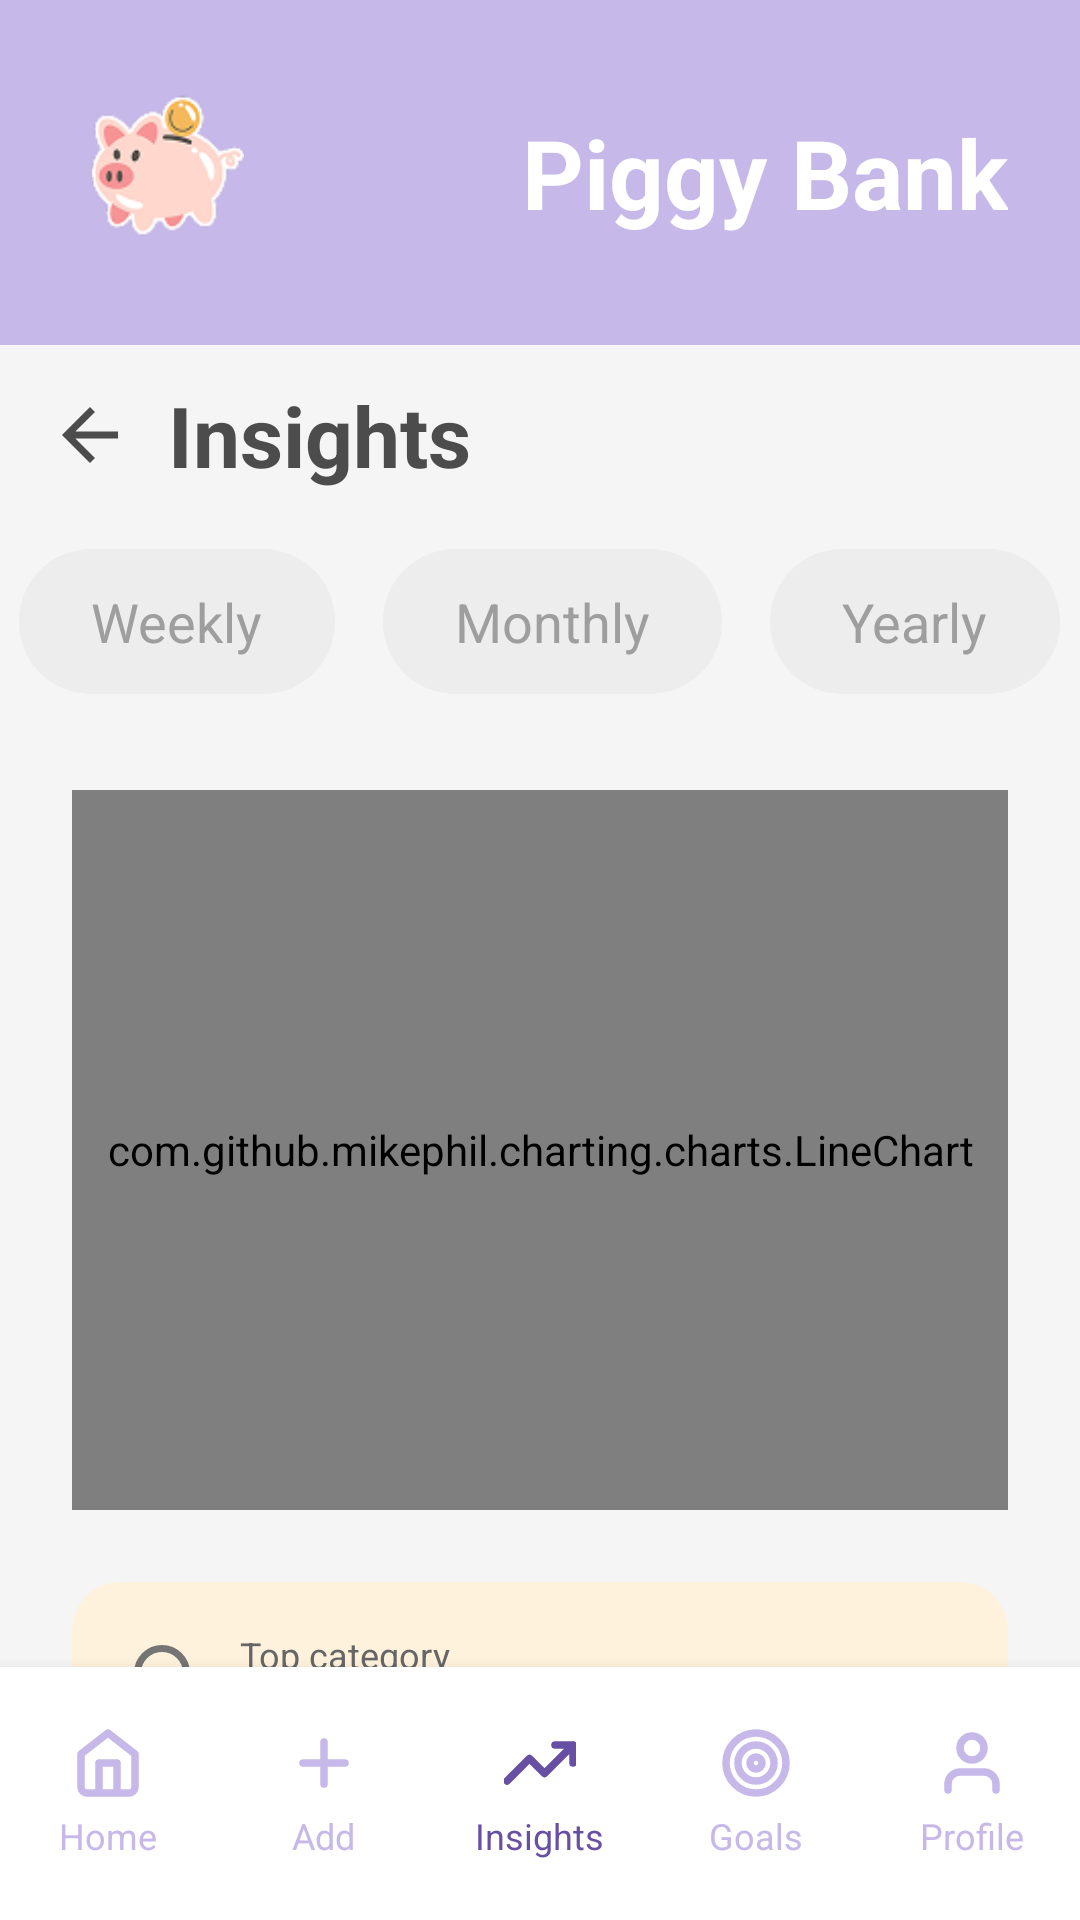

Named icons in this screenshot (1080px x 1920px) and their centers, point (x, y):
arrow back: point (90, 435)
